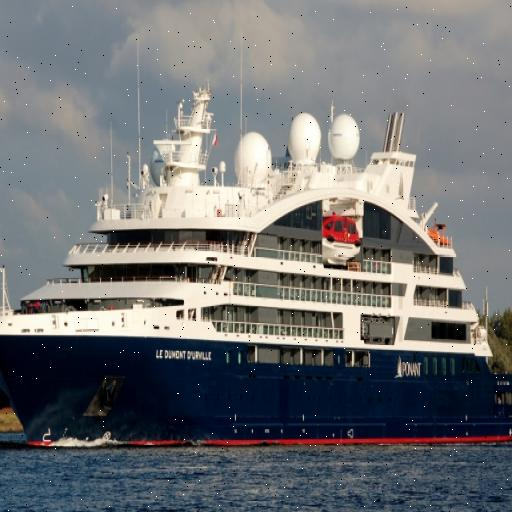cruises: (1, 77, 512, 455)
